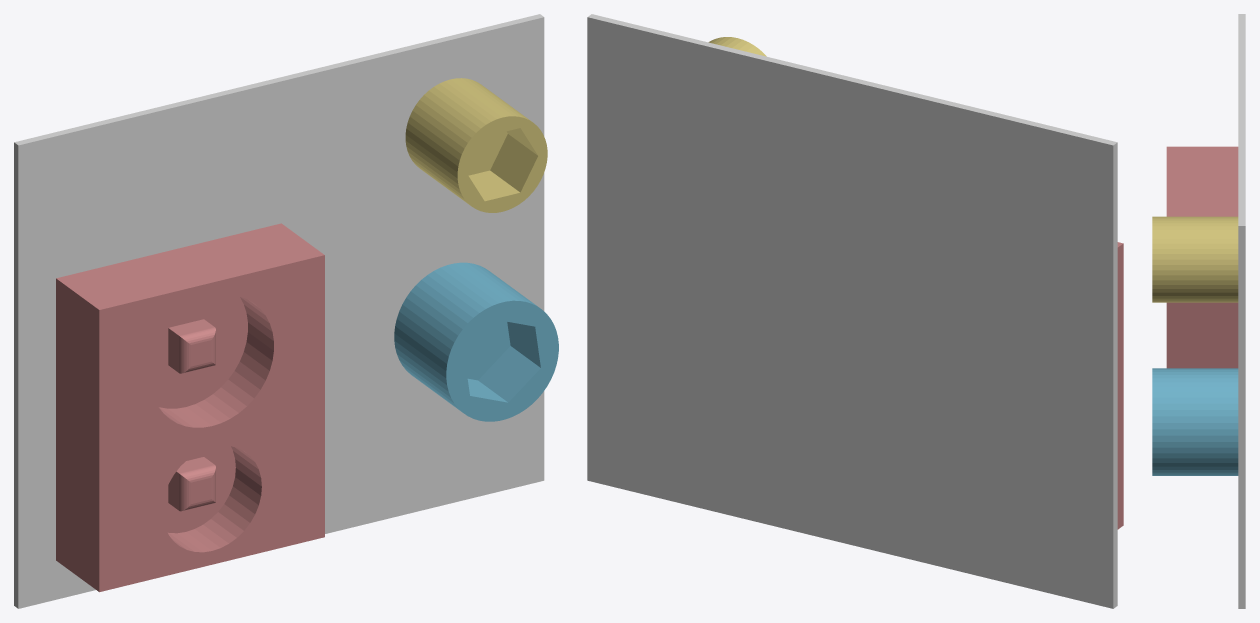
Rendered from pickup_layout.glb.
3 renders of one model, left to right at view 1: azimuth 30°, elevation 25°; view 2: azimuth 150°, elevation 25°; view 3: azimuth 270°, elevation 25°, orthographic. The views are drawn at different scales.
Parts seen in each view (by area): view 1: world, 0.obj, 2.obj, 1.obj; view 2: world, 0.obj; view 3: 0.obj, 2.obj, 1.obj, world.
Part boxes in pixels (x1,y1,x2,y2): world: [14, 14, 544, 608]; 0.obj: [56, 223, 324, 592]; 2.obj: [394, 262, 558, 421]; 1.obj: [405, 78, 547, 212]; world: [587, 14, 1117, 608]; 0.obj: [1117, 242, 1123, 529]; 0.obj: [1166, 146, 1238, 368]; 2.obj: [1152, 368, 1238, 475]; 1.obj: [1152, 216, 1238, 302]; world: [1238, 14, 1245, 608].
Size of the model in its own units: 14 by 11.79 by 2.6.
